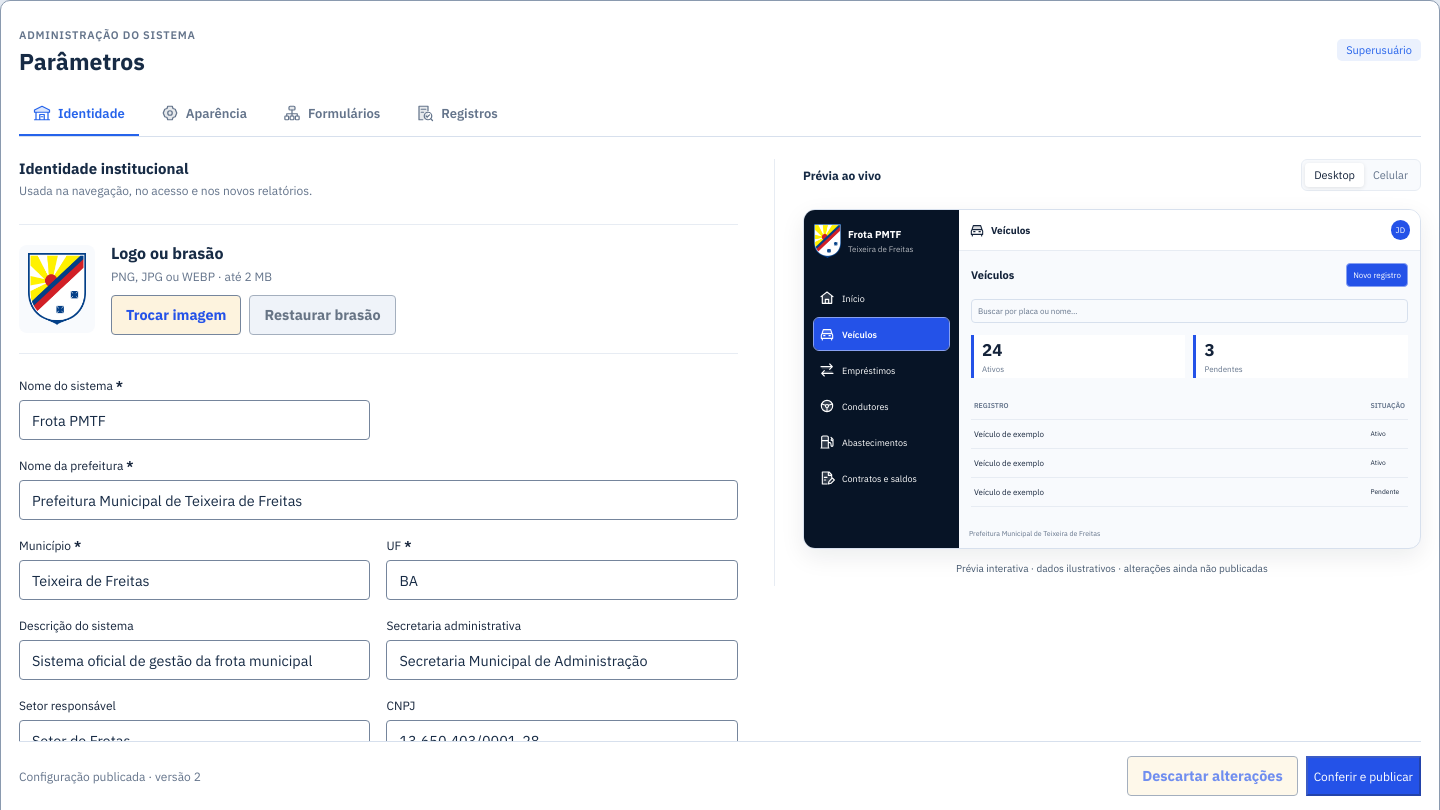
preserva o rascunho quando outra sessão já mudou a configuração
The image size is (1440, 810).
Replace the text in the field labelled "Nome do sistema *" with "Rascunho preservado": (195, 420) [19, 400, 370, 440]
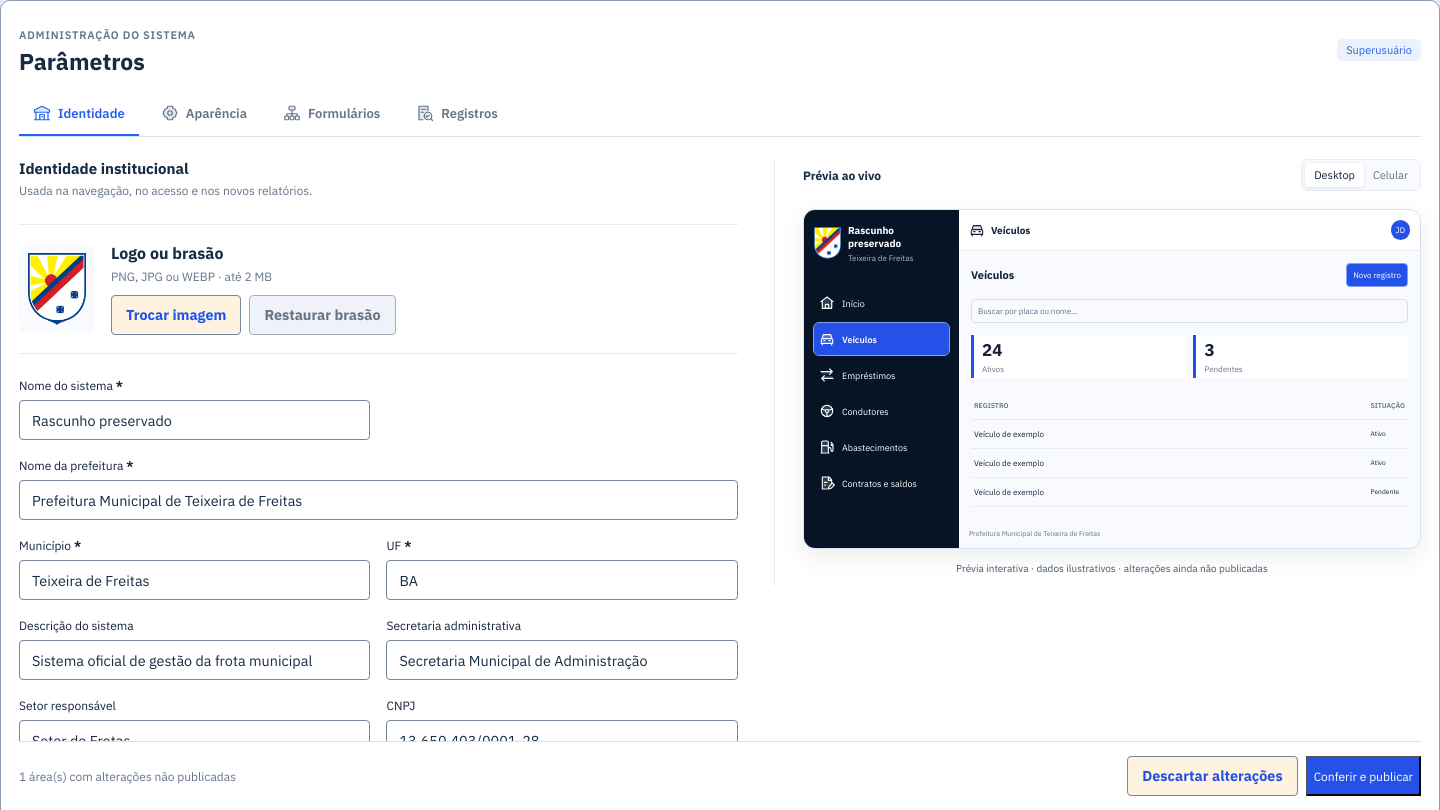
Click the button "Conferir e publicar": (1363, 776) [1306, 756, 1421, 796]
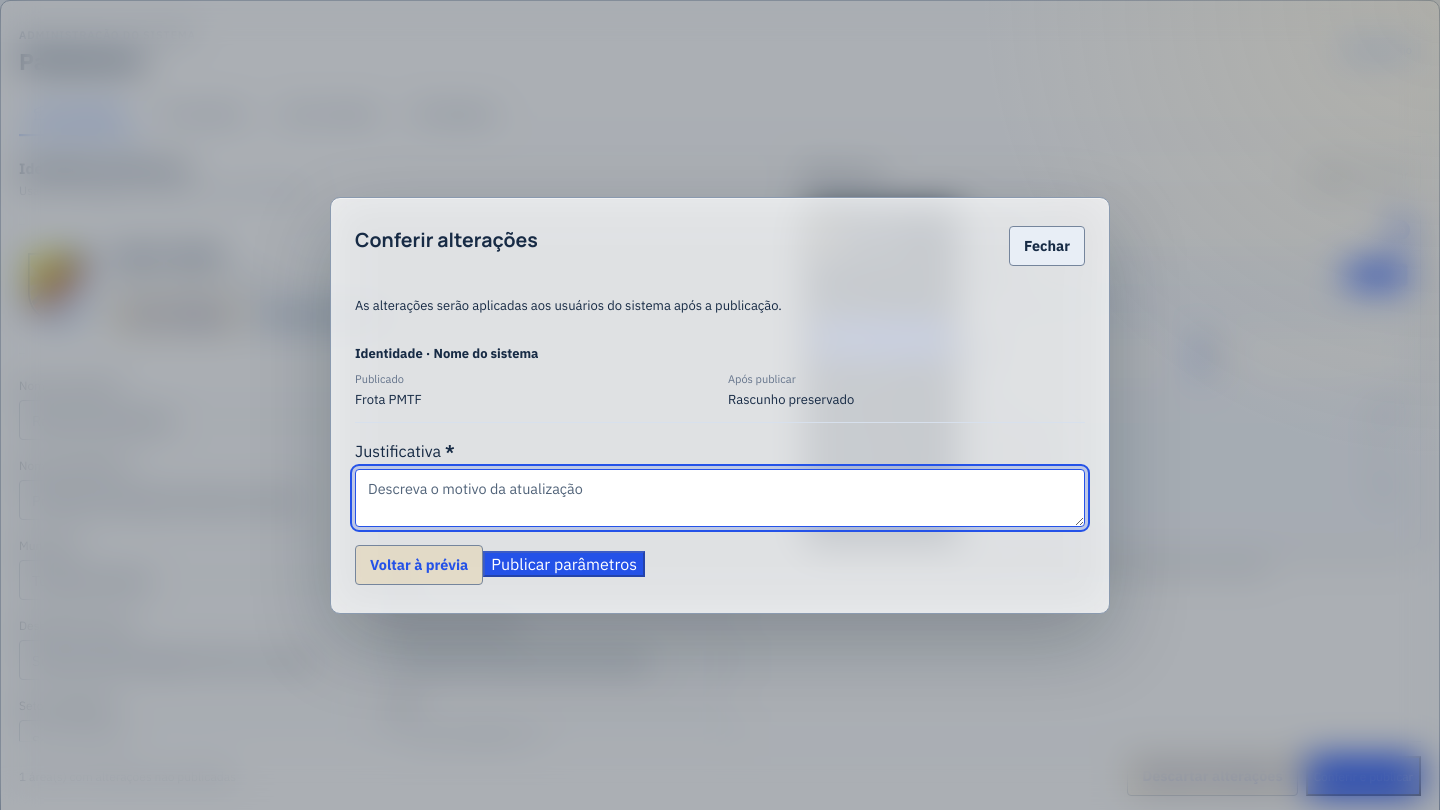
In the text box labelled "Justificativa *": (720, 498) [355, 468, 1085, 526], type "Conferência de conflito entre sessões"
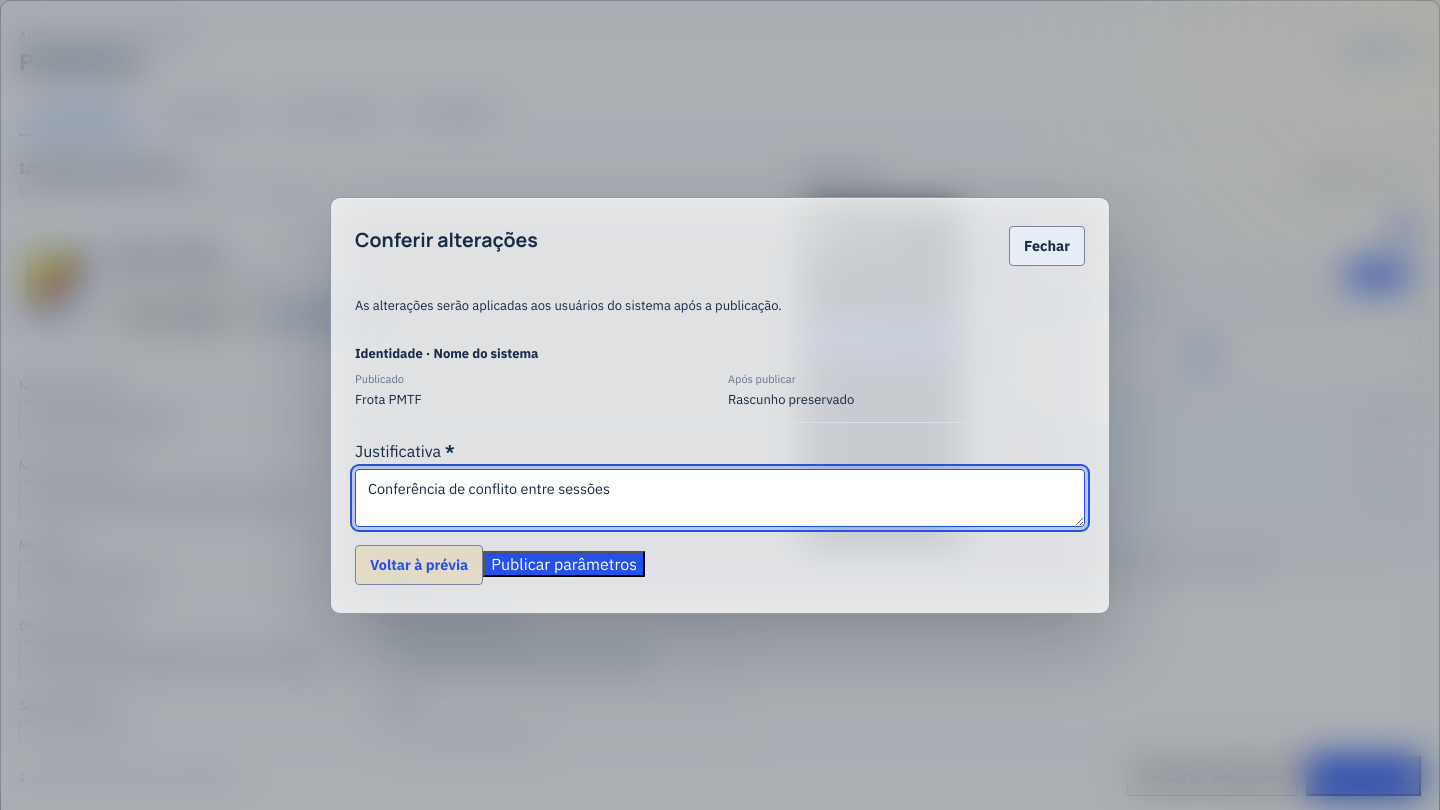
Click the button "Publicar parâmetros": (564, 564) [483, 551, 645, 577]
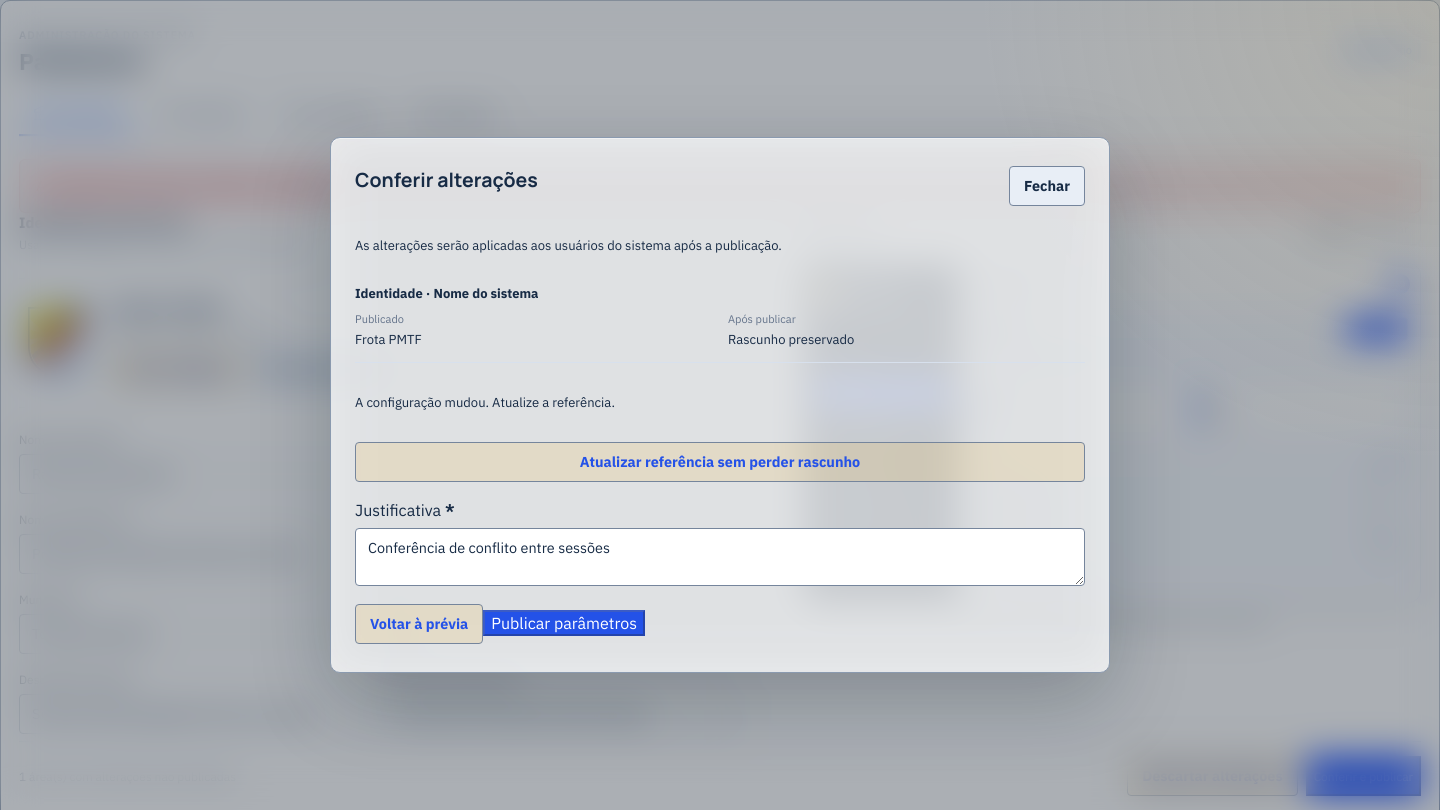
Expected: the text "A configuração mudou. Atualize a referência." is shown, [355, 394, 615, 411]
